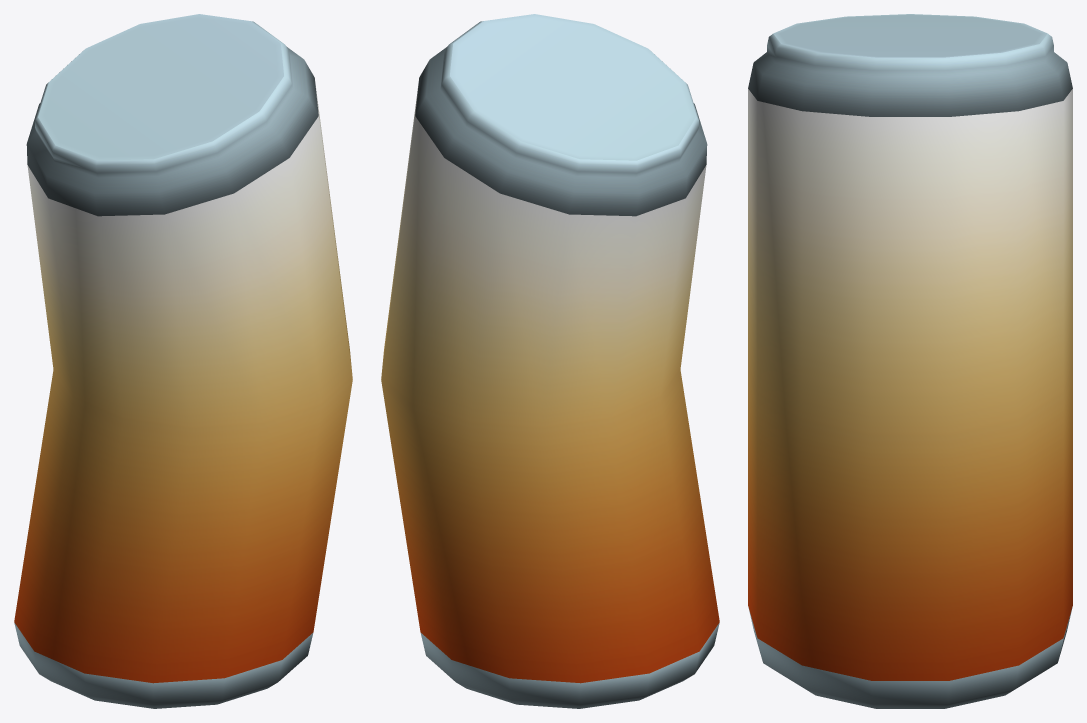
The model's file is Can.fbx.
3 views of the same model, side by side, from view 1: azimuth 30°, elevation 25°; view 2: azimuth 150°, elevation 25°; view 3: azimuth 270°, elevation 25° (orthographic). The views are drawn at different scales.
Parts seen in each view (by area): view 1: Cylinder; view 2: Cylinder; view 3: Cylinder.
Boxes of the visible parts, x1=… form: Cylinder: x1=14, y1=14, x2=352, y2=708; Cylinder: x1=381, y1=14, x2=719, y2=708; Cylinder: x1=748, y1=14, x2=1072, y2=708.
Bounding box in the file's own units: 47.58 × 91.18 × 41.6.
